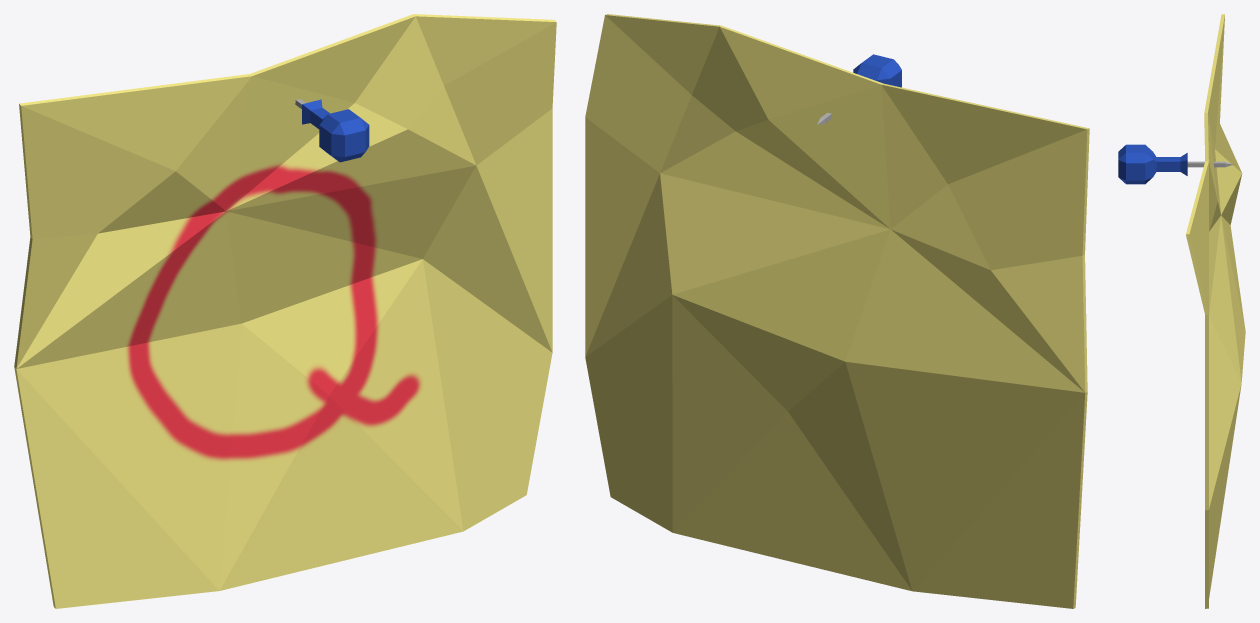
File: Paper Letter Q.fbx
3 renders of one model, left to right at view 1: azimuth 30°, elevation 25°; view 2: azimuth 150°, elevation 25°; view 3: azimuth 270°, elevation 25°, orthographic. The views are drawn at different scales.
Visible parts, largest first — view 1: Papier, Punaise; view 2: Papier, Punaise; view 3: Papier, Punaise.
Part boxes in pixels (x1,y1,x2,y2): Papier: (14, 14, 556, 608); Punaise: (295, 99, 369, 162); Papier: (585, 14, 1089, 608); Punaise: (817, 54, 901, 124); Papier: (1186, 14, 1245, 608); Punaise: (1118, 144, 1233, 184).
Bounding box in the file's own units: 208 × 200 × 54.89.
